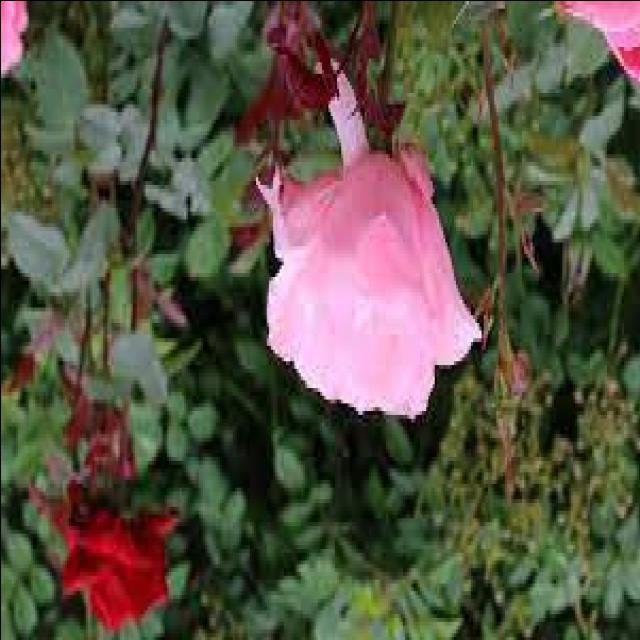rose: (262, 144, 484, 434)
